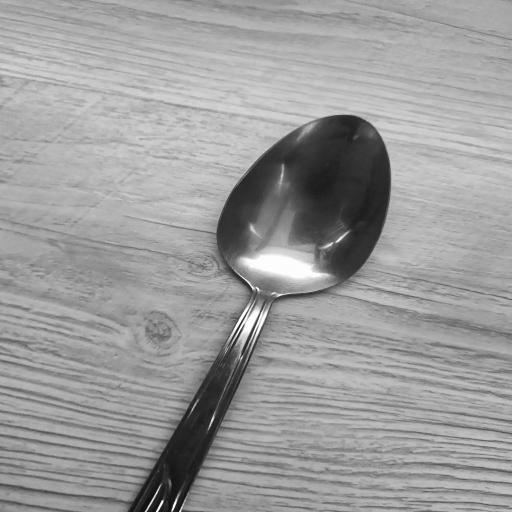spoon: (122, 112, 398, 512)
